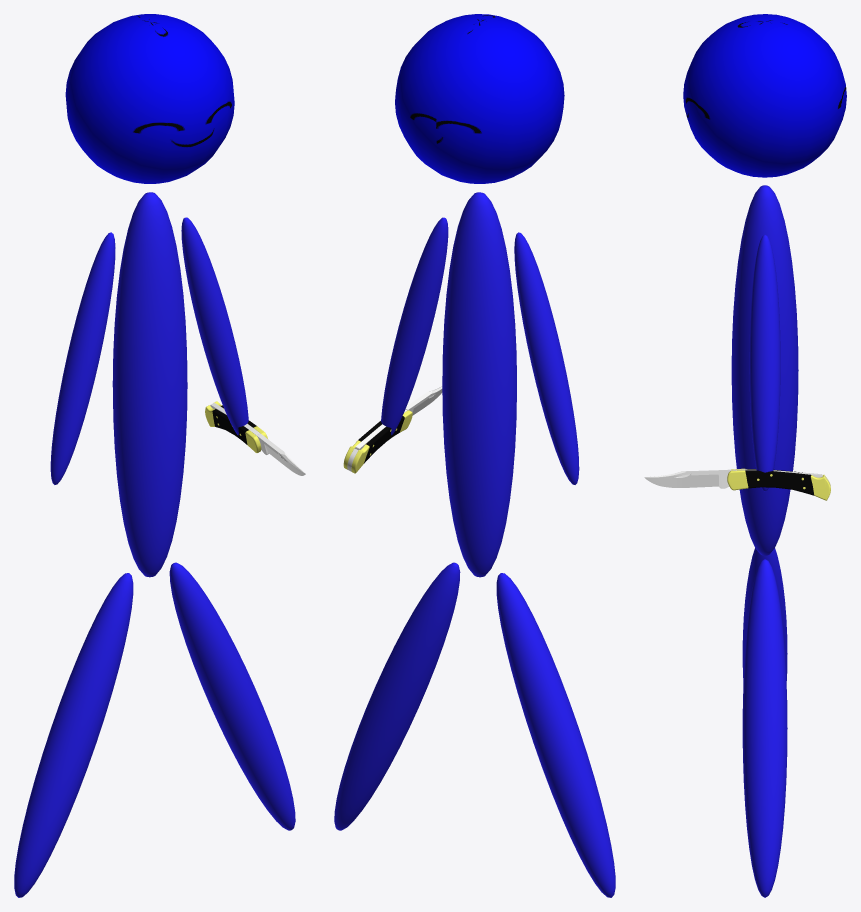
File: enemy_knife_001.obj
3 views of the same model, side by side, from view 1: azimuth 30°, elevation 25°; view 2: azimuth 150°, elevation 25°; view 3: azimuth 270°, elevation 25° (orthographic). The views are drawn at different scales.
Visible parts, largest first — view 1: pSphere1, pSphere6, pSphere5, pSphere4, pSphere3, pSphere2, knife001:group5_pCylinder1; view 2: pSphere1, pSphere6, pSphere5, pSphere4, pSphere3, pSphere2, knife001:group5_pCylinder1; view 3: pSphere6, pSphere1, pSphere4, pSphere2, knife001:group5_pCylinder1, pSphere5.
Part boxes in pixels (x1,y1,x2,y2): pSphere1: (112, 192, 187, 577); pSphere6: (65, 14, 234, 183); pSphere5: (14, 573, 133, 897); pSphere4: (169, 562, 295, 830); pSphere3: (50, 232, 115, 484); pSphere2: (181, 217, 248, 435); knife001:group5_pCylinder1: (205, 401, 305, 475); pSphere1: (442, 192, 516, 577); pSphere6: (395, 14, 564, 183); pSphere5: (496, 573, 615, 897); pSphere4: (334, 562, 460, 830); pSphere3: (514, 232, 579, 484); pSphere2: (381, 217, 448, 435); knife001:group5_pCylinder1: (343, 386, 442, 473); pSphere6: (683, 14, 846, 177); pSphere1: (731, 185, 798, 555); pSphere4: (742, 559, 787, 897); pSphere2: (749, 235, 780, 491); knife001:group5_pCylinder1: (644, 468, 830, 500); pSphere5: (742, 548, 787, 682).
Size of the model in its own units: 0.7154 by 2.07 by 0.4679.
Materials: 5 (1 with a texture image).
